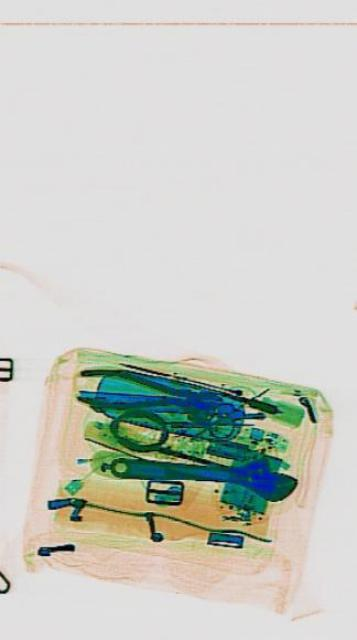Pliers: (75, 365, 220, 417)
Wrench: (107, 444, 296, 501)
